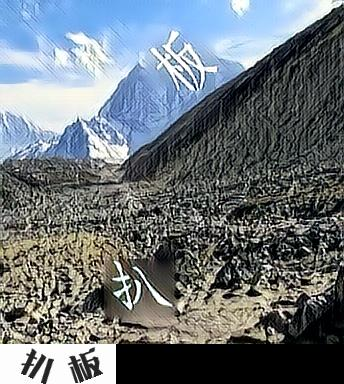character: (146, 28, 223, 94), (106, 256, 177, 317)
